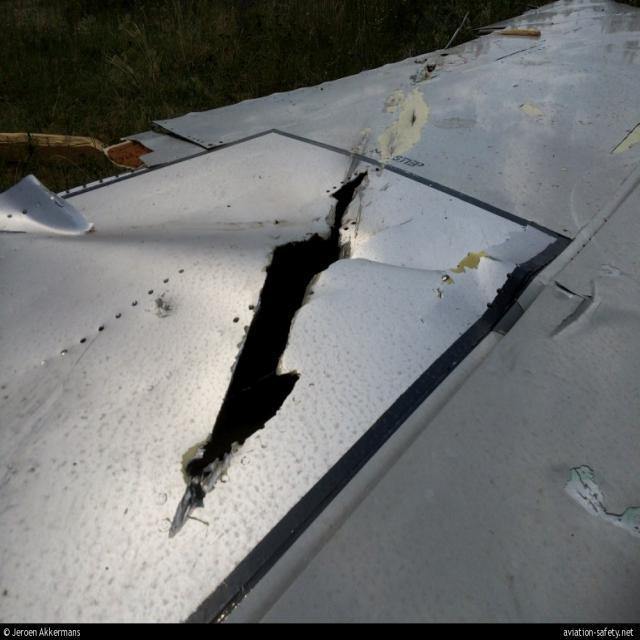crack: (164, 163, 373, 541), (407, 105, 420, 135)
